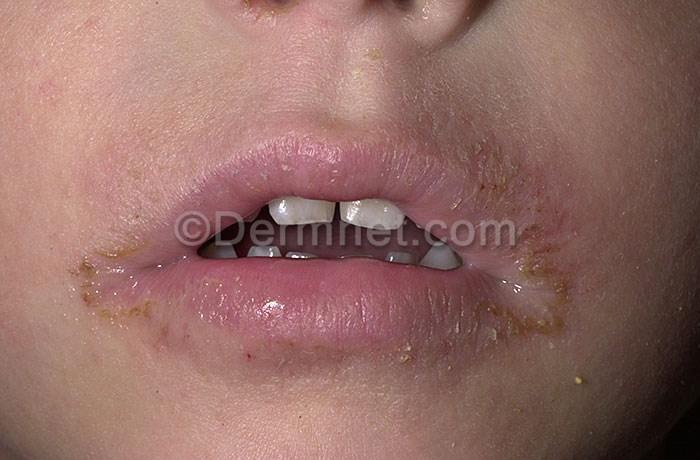exudacion 1: (51, 223, 168, 328)
exudacion 2: (477, 217, 576, 345)
xerosis 1: (410, 73, 562, 213)
